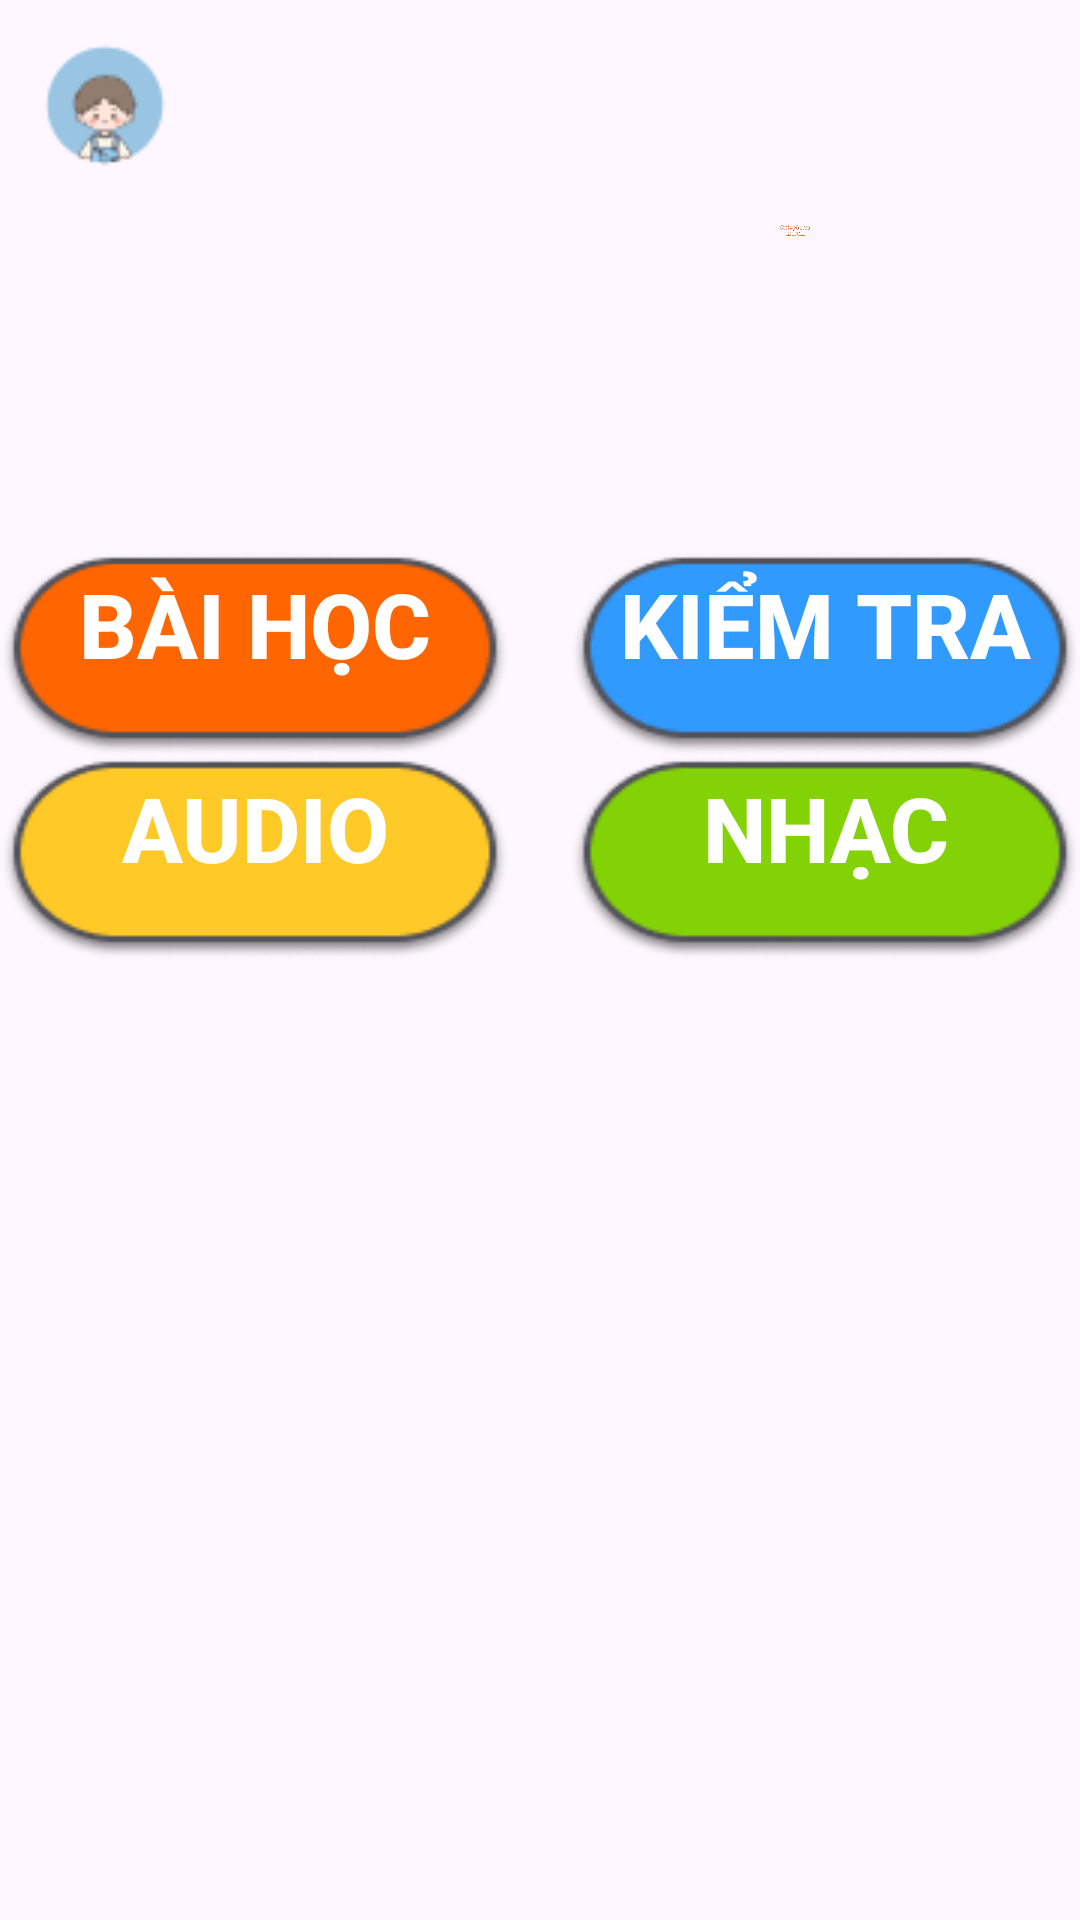

Icon click points for this 1080 × 1920 phone screenshot, format (x=x, y=y):
avt: (x=105, y=106)
